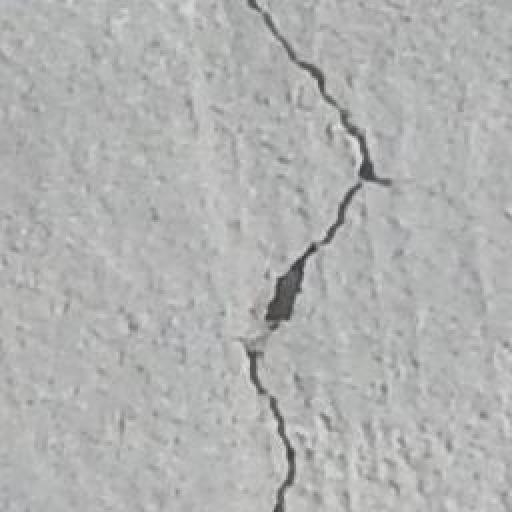spalling: (228, 7, 392, 509)
